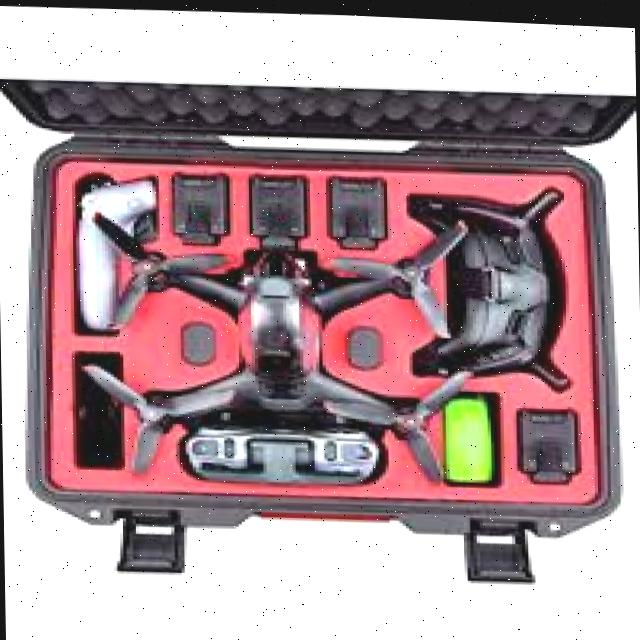drone: (91, 189, 480, 487)
